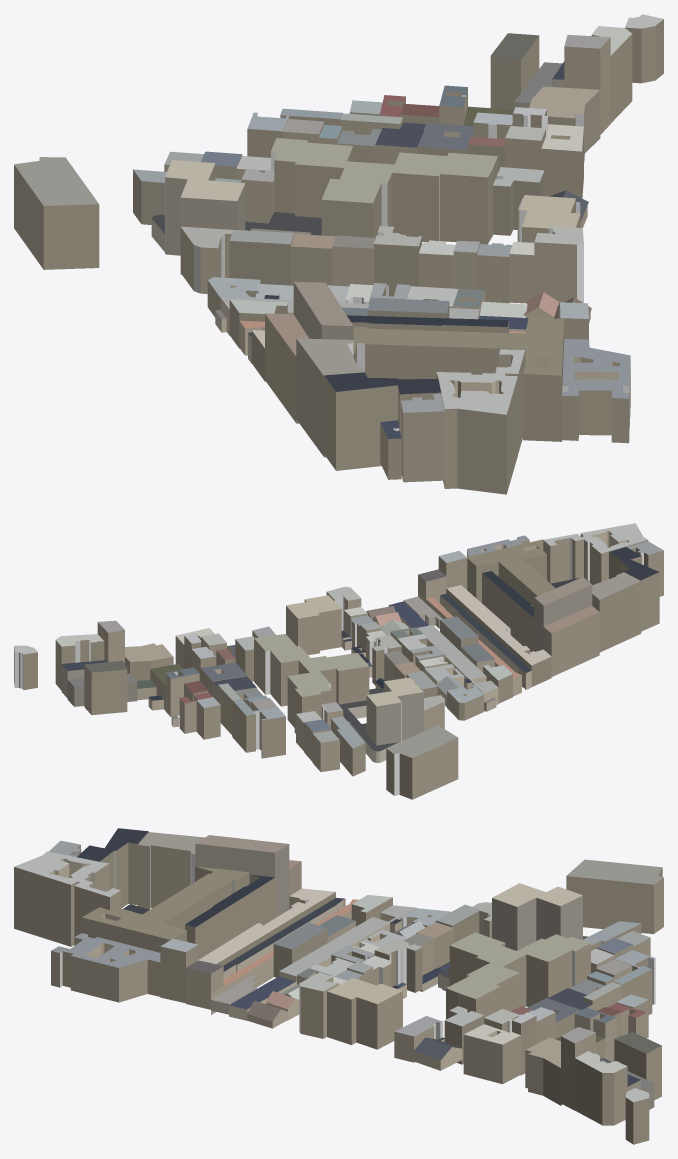
3 renders of one model, top to bottom at view 1: azimuth 30°, elevation 25°; view 2: azimuth 150°, elevation 25°; view 3: azimuth 270°, elevation 25°, orthographic. The views are drawn at different scales.
Visible parts, largest first — view 1: tuile; view 2: tuile; view 3: tuile.
Boxes of the visible parts, x1,y1,x2,y2 form: tuile: (14, 14, 663, 494); tuile: (14, 523, 663, 799); tuile: (14, 828, 663, 1144).
Size of the model in its own units: 252 by 41.21 by 276.
